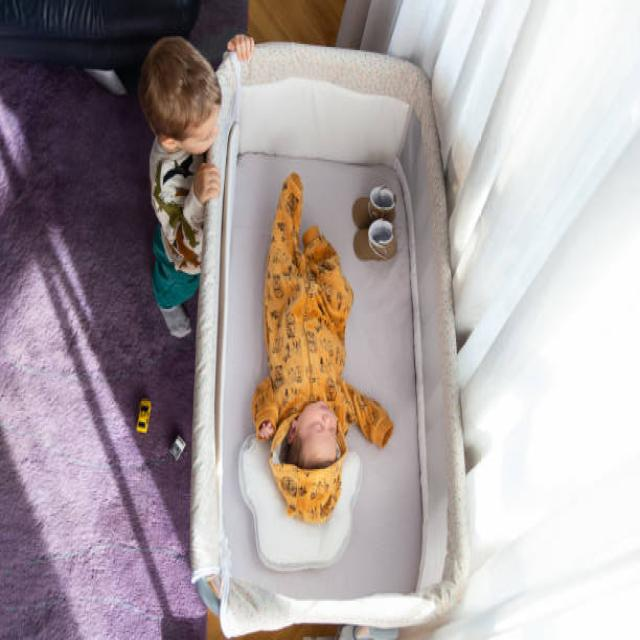baby: (248, 169, 389, 532)
crib: (188, 38, 471, 637)
